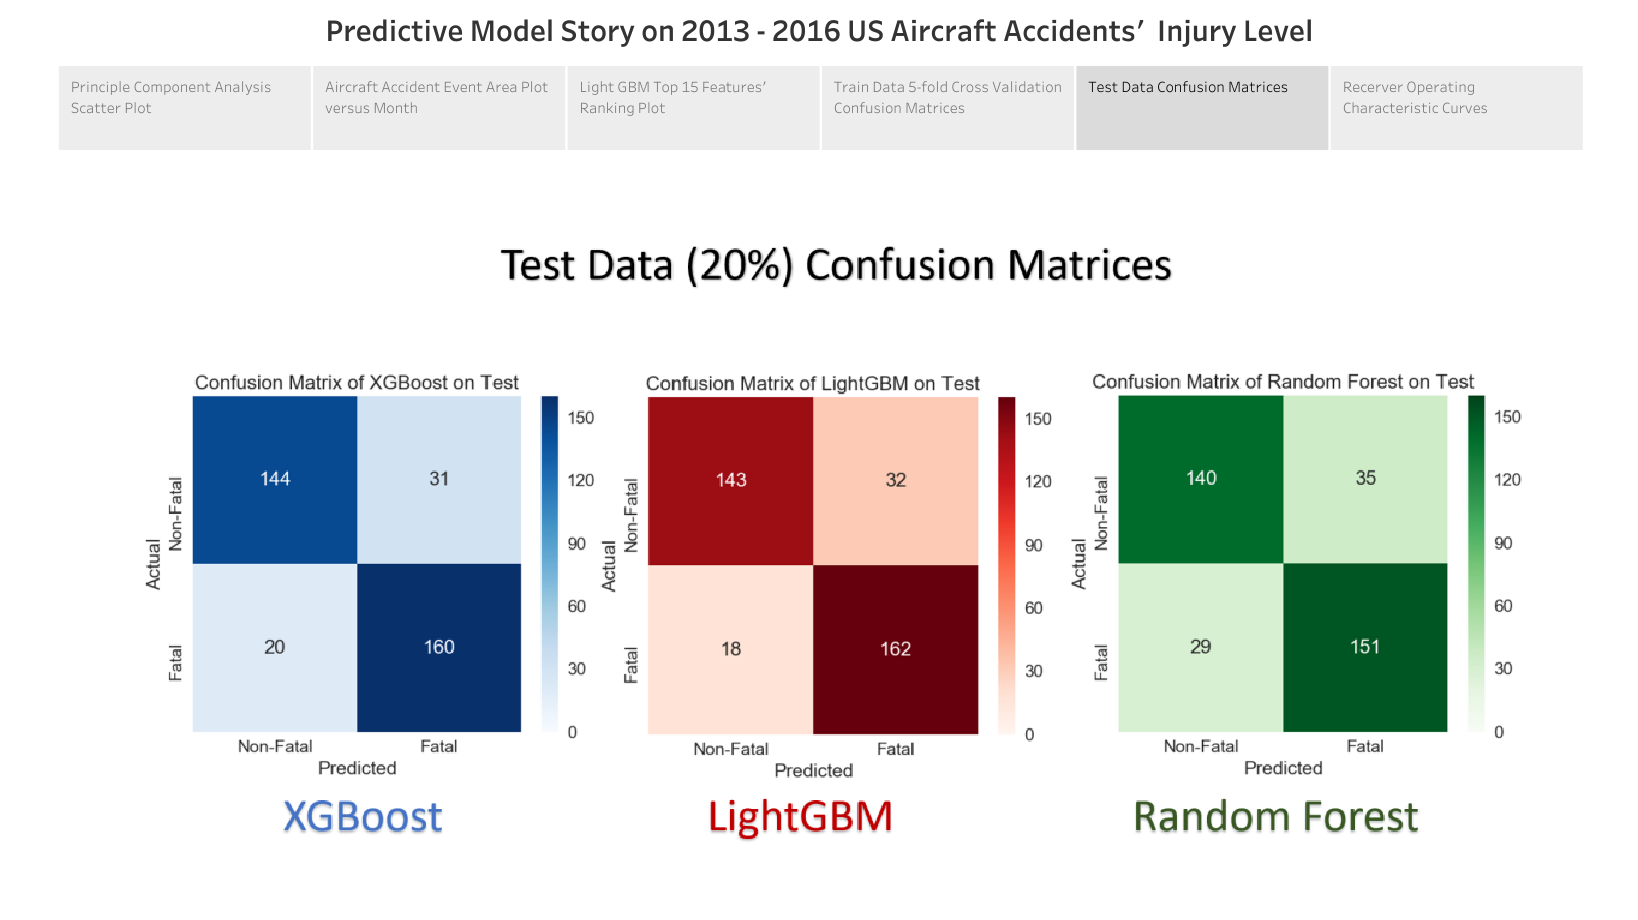

Layout of this report page (visuals, bound fields, positions):
{"tool":"tableau","page":{"name":"test_cm","canvas":[1266,668],"ordinal":3},"visuals":[{"type":"image","param":"C:/Users/Jimny/Desktop/Study/Fall 2019/ANLY 503/Project/Test_Conf_Mat.png","box":[63,42,1167,592]}]}

Visuals, with their boxes on the page's 1266x668 design canvas (x1, y1, x2, y2). These are canvas units, not pixel positions in the 1638x920 screenshot, which may show the page scaled, cropped or inside an application window:
image: region(63, 42, 1230, 634)
